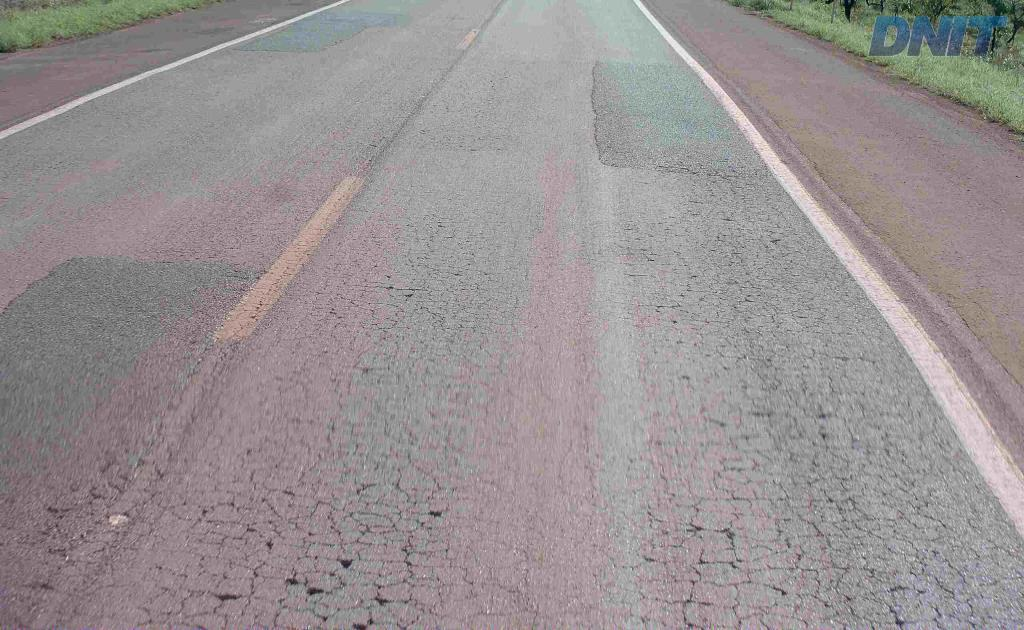crack: (340, 500, 446, 614), (260, 478, 375, 564), (245, 550, 356, 629), (180, 468, 266, 560), (174, 549, 268, 629), (795, 552, 859, 629), (664, 564, 713, 629), (353, 274, 437, 303), (347, 590, 391, 629)
